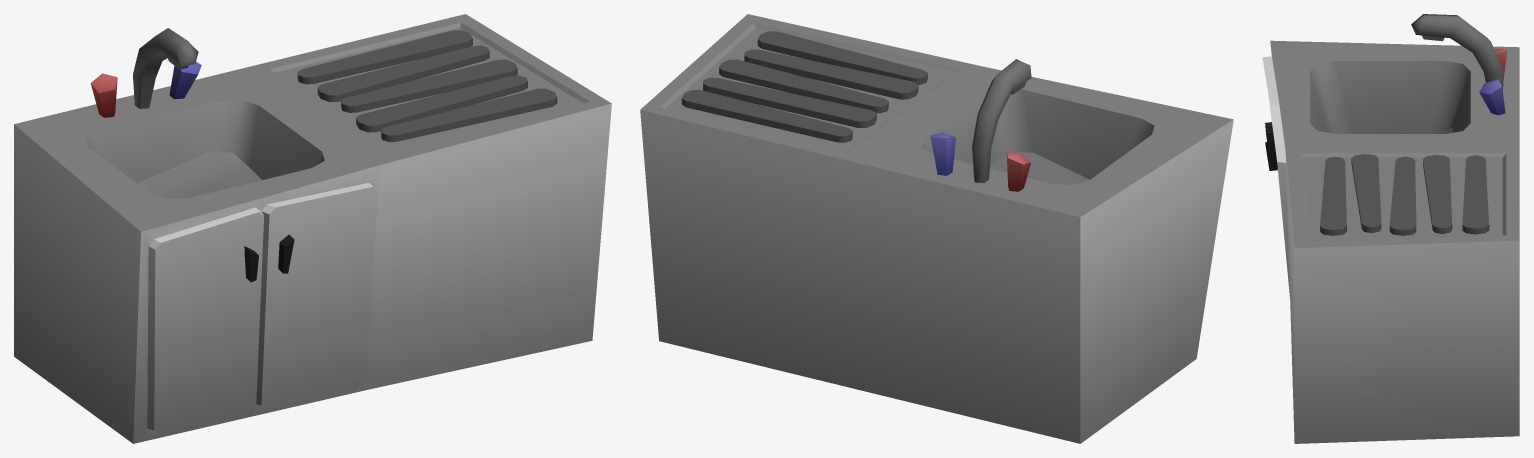
File: lavello.fbx
3 views of the same model, side by side, from view 1: azimuth 30°, elevation 25°; view 2: azimuth 150°, elevation 25°; view 3: azimuth 270°, elevation 25° (orthographic). The views are drawn at different scales.
Visible parts, largest first — view 1: SM_lavello; view 2: SM_lavello; view 3: SM_lavello.
Part boxes in pixels (box(x1,y1,x2,y2)): SM_lavello: box(14, 14, 611, 443); SM_lavello: box(640, 14, 1233, 443); SM_lavello: box(1262, 14, 1519, 443).
Size of the model in its own units: 323 by 208 by 169.
